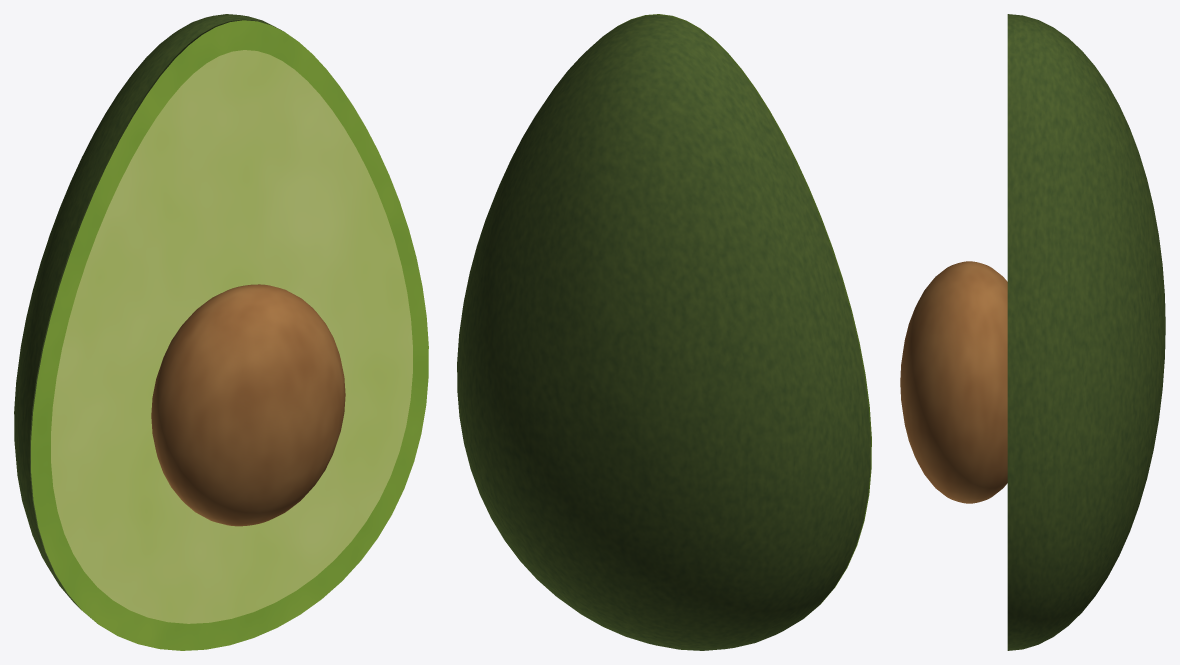
The model's file is Avocado.fbx.
3 views of the same model, side by side, from view 1: azimuth 30°, elevation 25°; view 2: azimuth 150°, elevation 25°; view 3: azimuth 270°, elevation 25° (orthographic). The views are drawn at different scales.
Parts seen in each view (by area): view 1: Avocado; view 2: Avocado; view 3: Avocado.
Boxes of the visible parts, box(x1,y1,x2,y2) form: Avocado: box(14, 14, 428, 650); Avocado: box(457, 14, 871, 650); Avocado: box(900, 14, 1165, 650).
Size of the model in its own units: 68.14 by 102 by 40.3.
